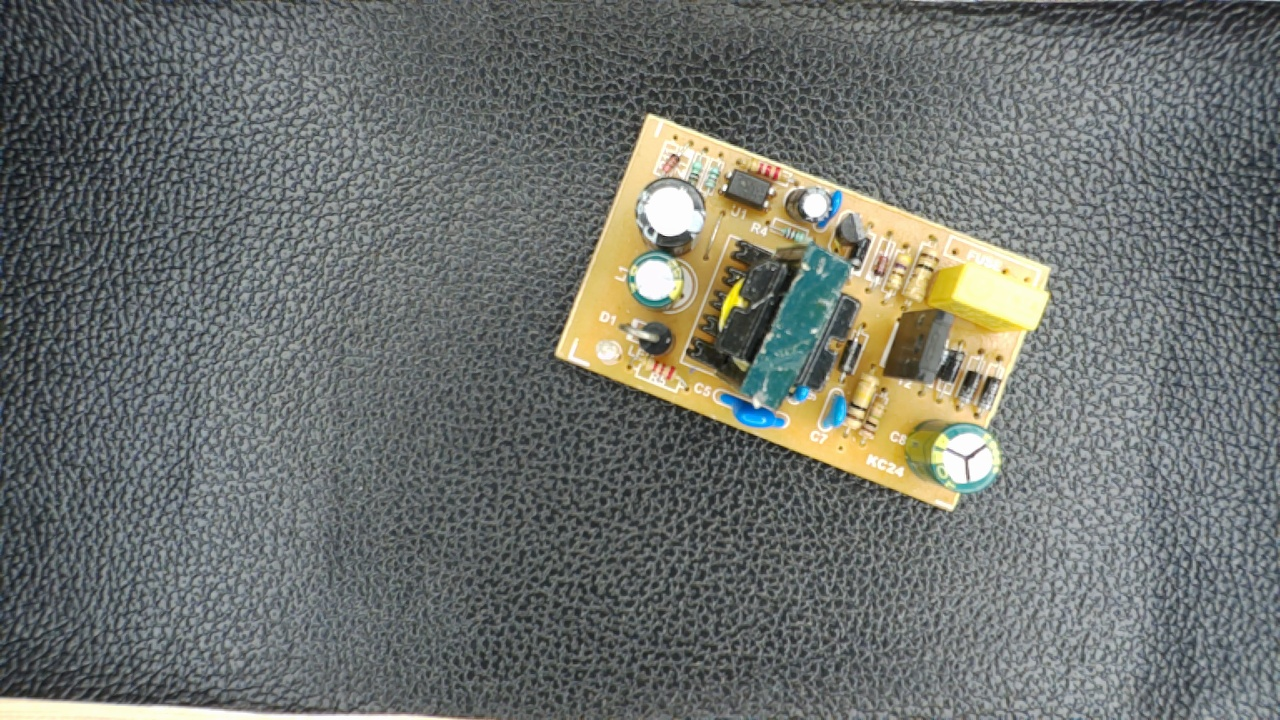hv_capacitor: (905, 419, 1002, 495)
mov: (714, 390, 791, 431)
optocoupler: (719, 165, 776, 215)
